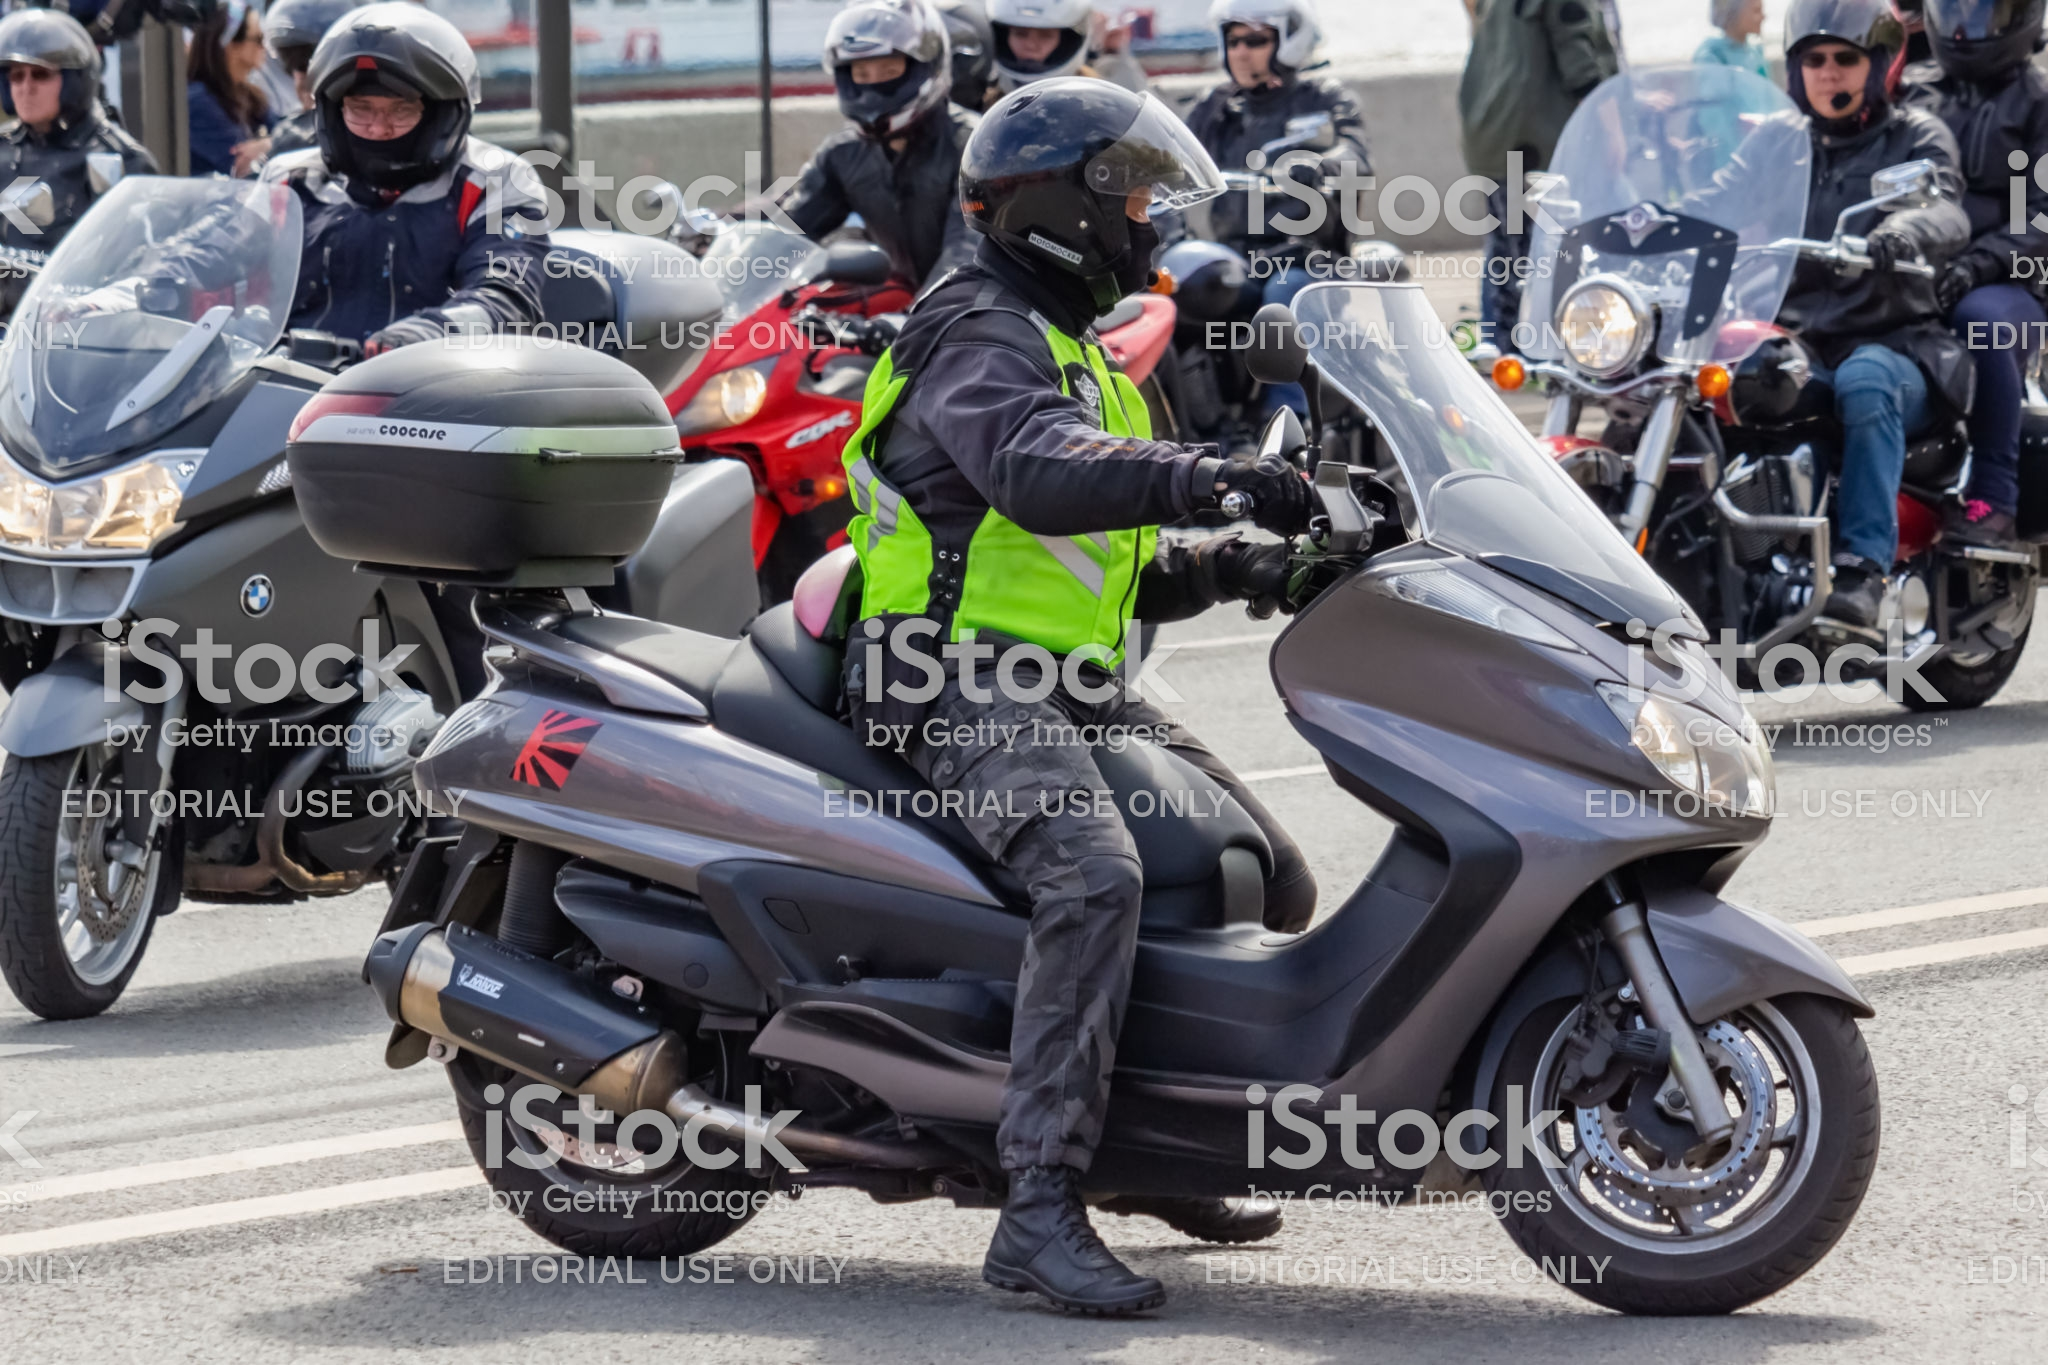helmet: (949, 85, 1230, 318), (286, 2, 463, 178), (822, 11, 959, 129)
